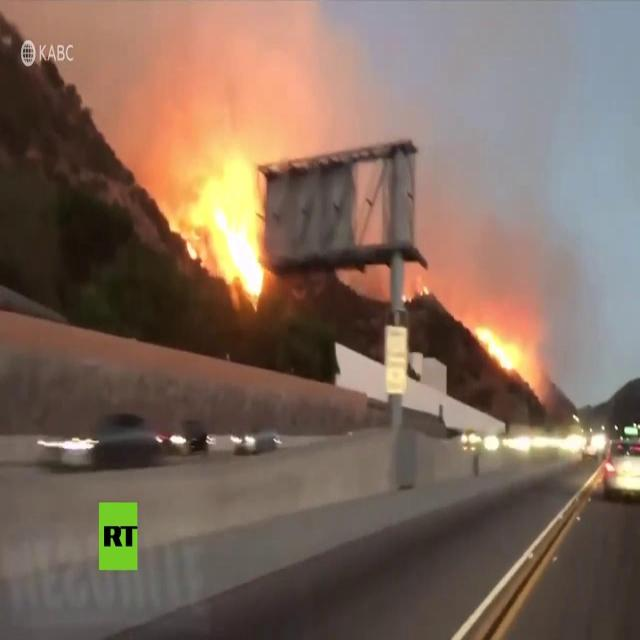Fire: (169, 164, 267, 298), (475, 326, 522, 374)
